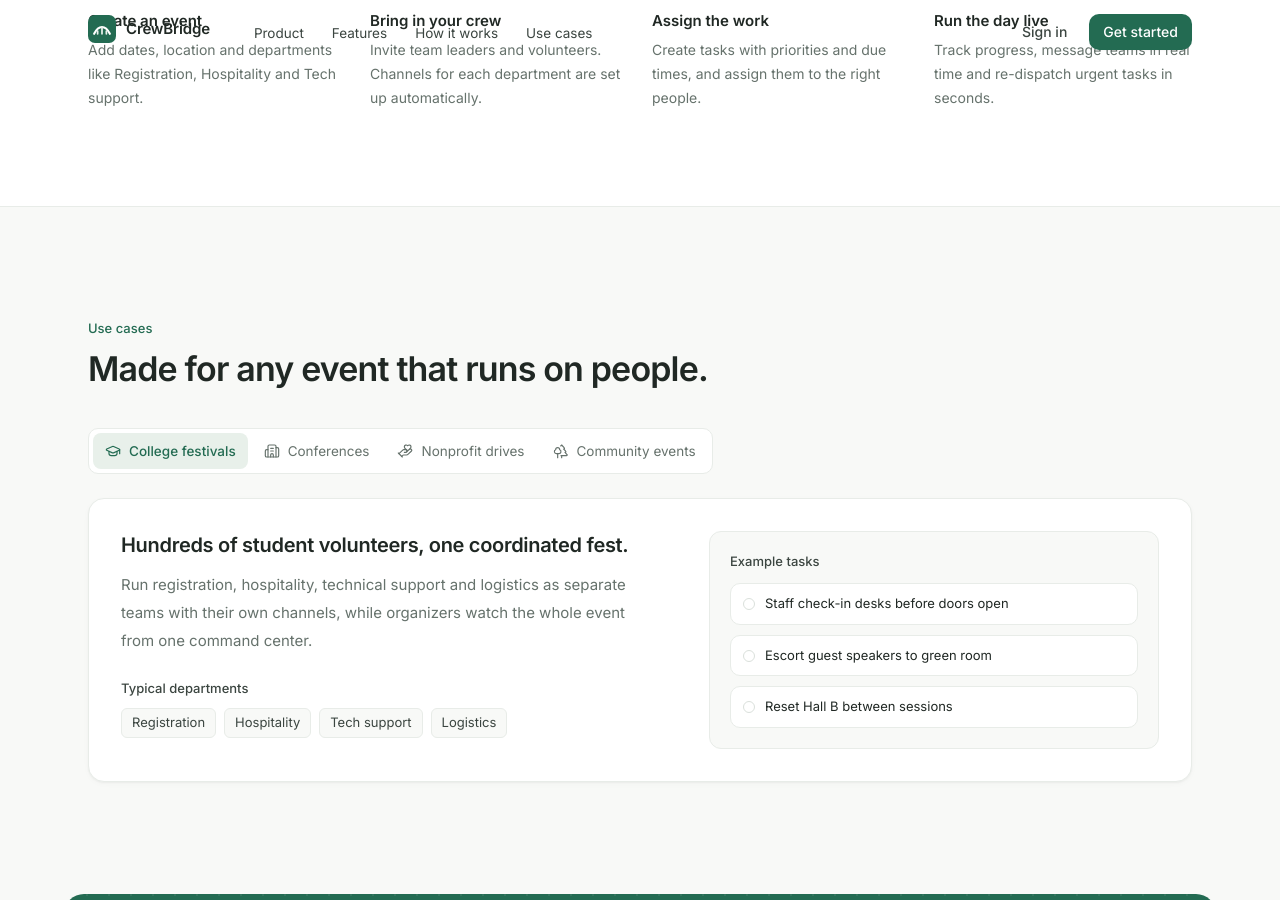
LandingPage › switches use-case tabs
This screenshot has width=1280, height=900.
(page scrolled)
Click the tab "Conferences": (317, 451) [252,433,382,469]
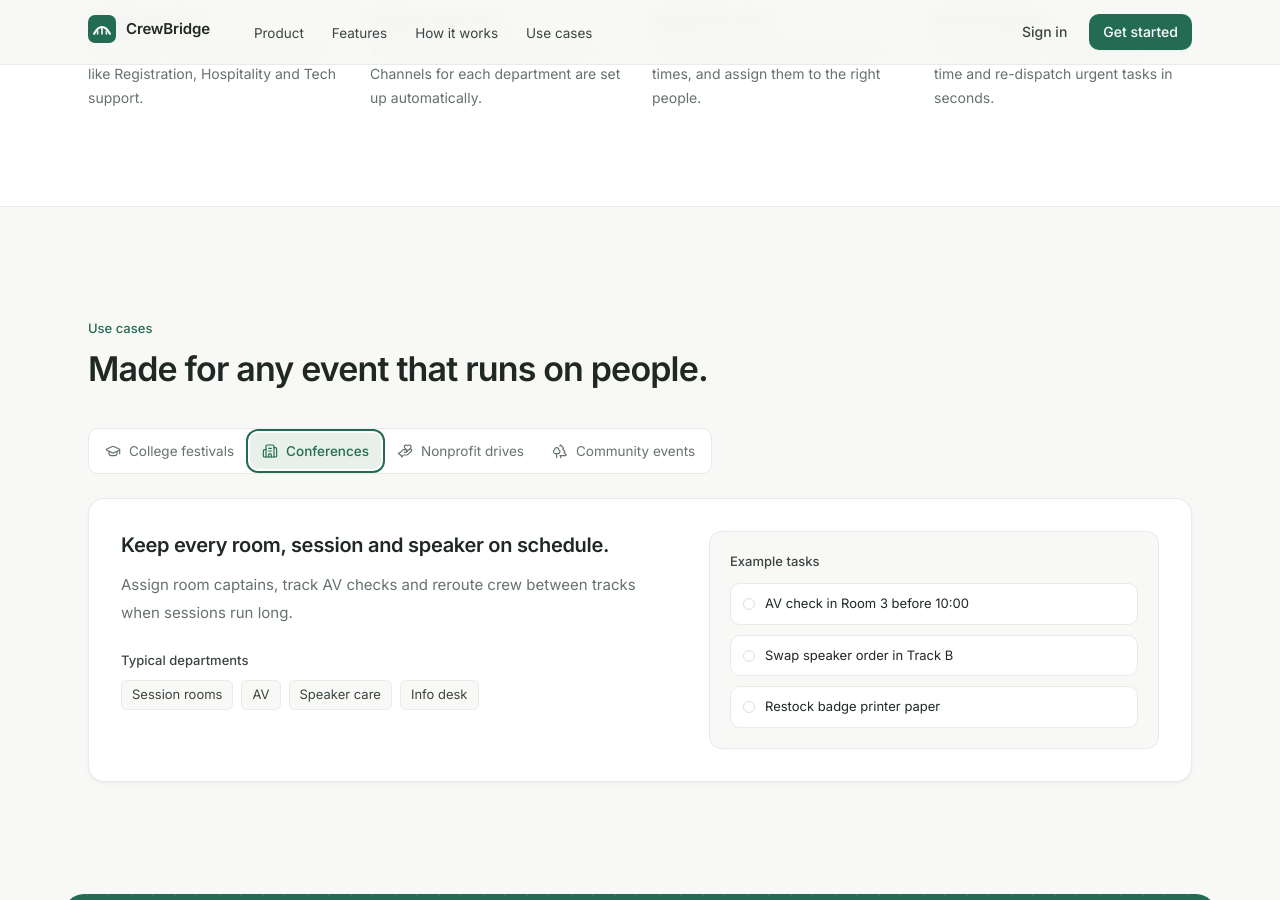
Result: the heading "Keep every room, session and speaker on schedule." is shown at [121,531,661,559]
